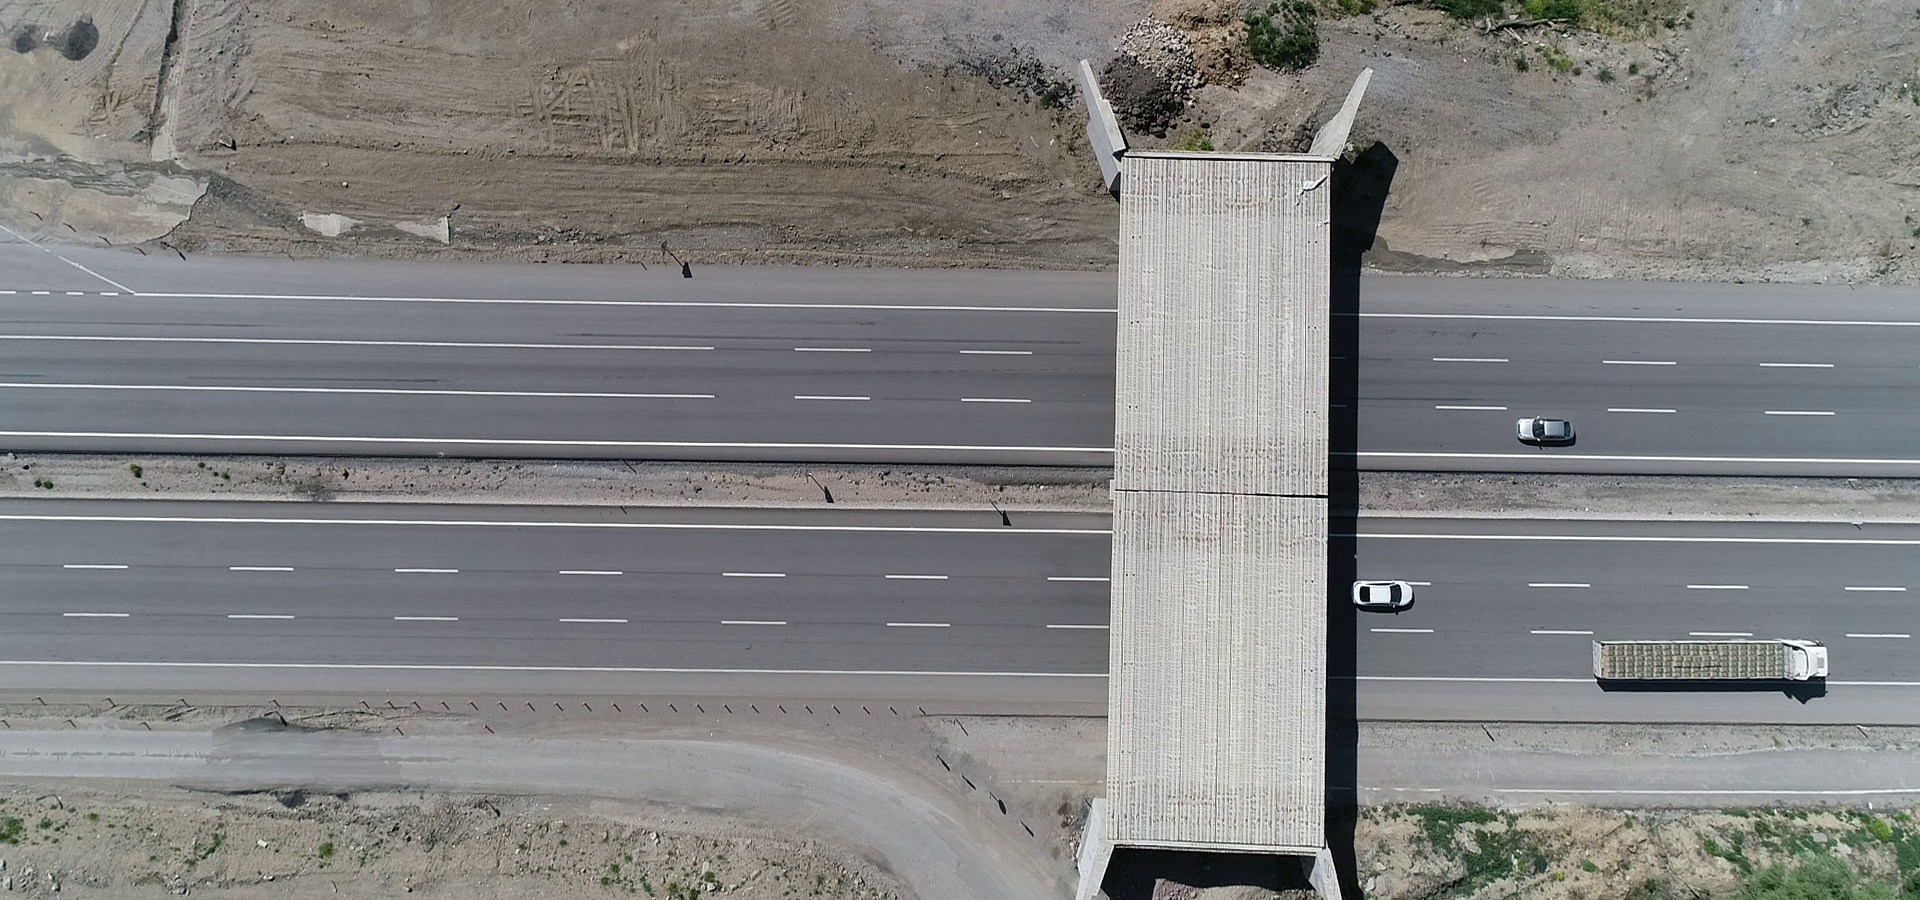araba: (1349, 572, 1425, 617), (1510, 410, 1582, 444)
kamyon: (1587, 636, 1847, 692)
